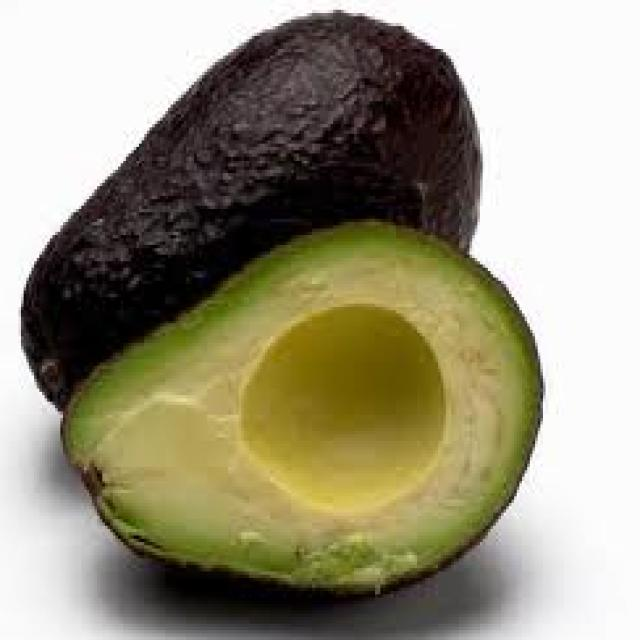avocado: (24, 0, 554, 601)
